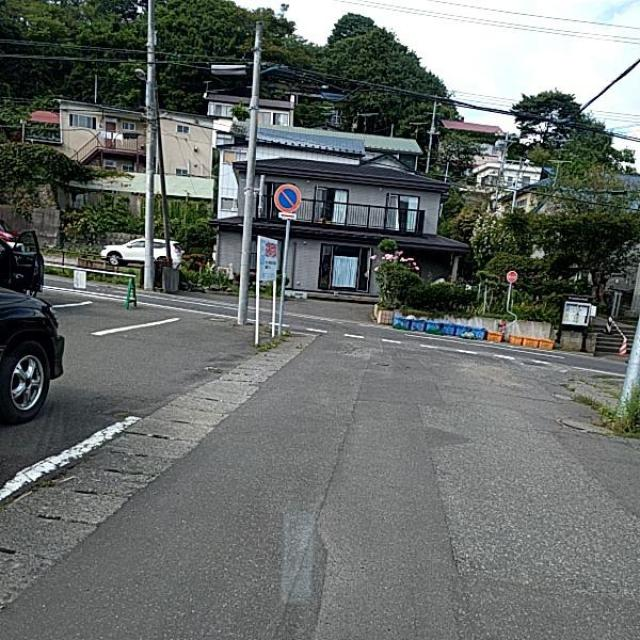Crack: (282, 326, 364, 636)
